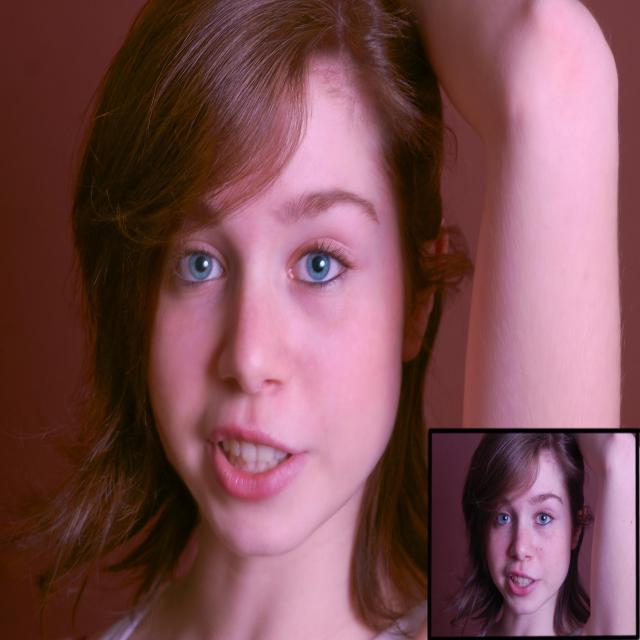no-glass: (166, 242, 345, 292)
